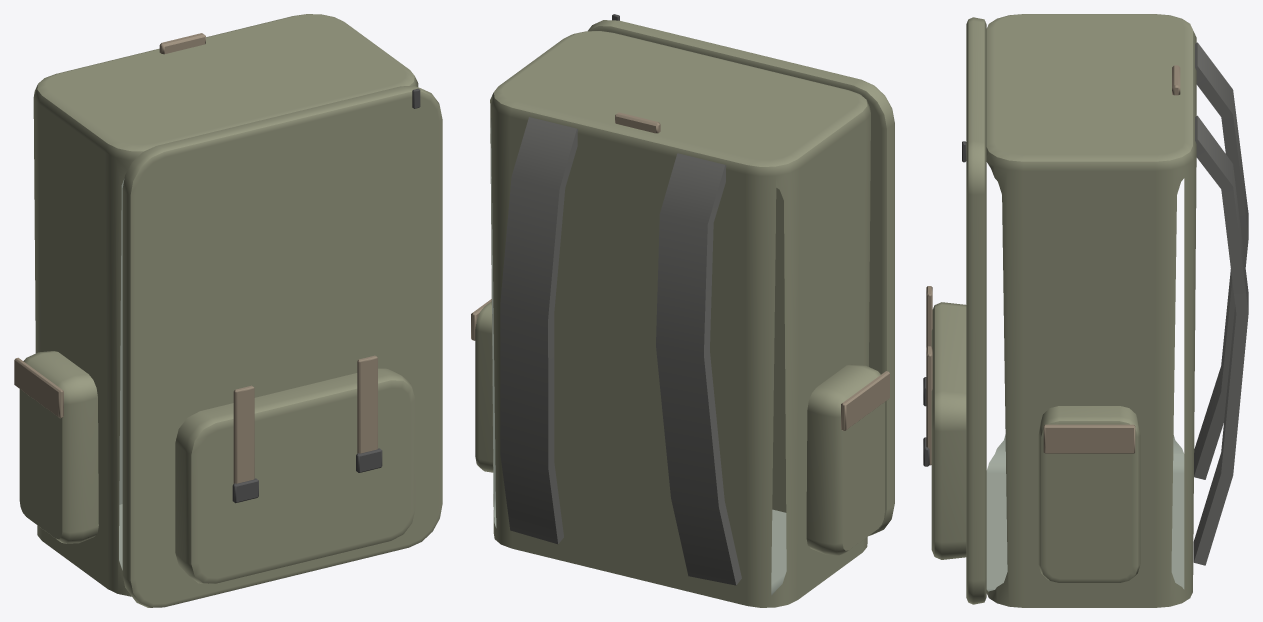
The model's file is backpack.glb.
3 views of the same model, side by side, from view 1: azimuth 30°, elevation 25°; view 2: azimuth 150°, elevation 25°; view 3: azimuth 270°, elevation 25° (orthographic).
Parts seen in each view (by area): view 1: pack_lid_closed, pack; view 2: pack, pack_lid_closed; view 3: pack, pack_lid_closed.
Part boxes in pixels (<box>): pack_lid_closed: <box>122,85,442,607</box>; pack: <box>14,14,418,596</box>; pack: <box>471,31,889,607</box>; pack_lid_closed: <box>588,14,894,535</box>; pack: <box>986,14,1248,607</box>; pack_lid_closed: <box>923,17,986,604</box>.
Size of the model in its own units: 0.43 by 0.504 by 0.319.
